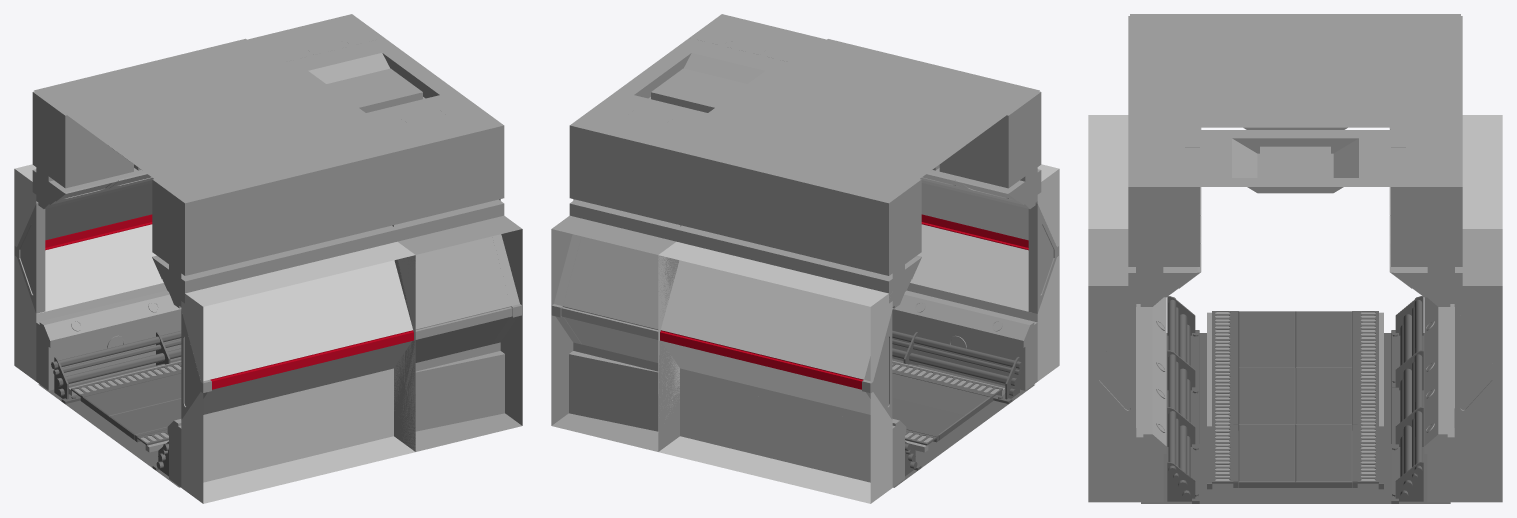
File: Coridoor_chunk_1_Half_MayaRemodel.fbx
3 renders of one model, left to right at view 1: azimuth 30°, elevation 25°; view 2: azimuth 150°, elevation 25°; view 3: azimuth 270°, elevation 25°, orthographic. The views are drawn at different scales.
Visible parts, largest first — view 1: Coridoor_chunk_1_MayaRemodel1:polySurface74, polySurface70, Coridoor_chunk_1_MayaRemodel1:Roof, Coridoor_chunk_1_MayaRemodel1:polySurface52, Coridoor_chunk_1_MayaRemodel1:polySurface102, polySurface27, Coridoor_chunk_1_MayaRemodel1:polySurface114, Coridoor_chunk_1_MayaRemodel1:polySurface10, Coridoor_chunk_1_MayaRemodel1:polySurface51, polySurface72, Coridoor_chunk_1_MayaRemodel1:polySurface103, Coridoor_chunk_1_MayaRemodel1:polySurface116 (+9 smaller); view 2: Coridoor_chunk_1_MayaRemodel1:polySurface102, polySurface72, Coridoor_chunk_1_MayaRemodel1:Roof, Coridoor_chunk_1_MayaRemodel1:polySurface10, Coridoor_chunk_1_MayaRemodel1:polySurface74, polySurface27, Coridoor_chunk_1_MayaRemodel1:polySurface75, Coridoor_chunk_1_MayaRemodel1:polySurface52, polySurface70, Coridoor_chunk_1_MayaRemodel1:polySurface81, Coridoor_chunk_1_MayaRemodel1:polySurface4, Coridoor_chunk_1_MayaRemodel1:Floor (+9 smaller); view 3: Coridoor_chunk_1_MayaRemodel1:Roof, polySurface70, polySurface72, polySurface27, polySurface33, Coridoor_chunk_1_MayaRemodel1:polySurface74, Coridoor_chunk_1_MayaRemodel1:polySurface102, polySurface28, polySurface48, Coridoor_chunk_1_MayaRemodel1:polySurface49, Coridoor_chunk_1_MayaRemodel1:polySurface81, Coridoor_chunk_1_MayaRemodel1:polySurface88 (+28 smaller).
Part boxes in pixels (x1,y1,x2,y2): Coridoor_chunk_1_MayaRemodel1:polySurface74: (181, 241, 415, 503); polySurface70: (367, 101, 522, 451); Coridoor_chunk_1_MayaRemodel1:Roof: (34, 38, 395, 200); Coridoor_chunk_1_MayaRemodel1:polySurface52: (152, 149, 397, 275); Coridoor_chunk_1_MayaRemodel1:polySurface102: (14, 164, 167, 381); polySurface27: (280, 38, 471, 126); Coridoor_chunk_1_MayaRemodel1:polySurface114: (36, 290, 181, 390); Coridoor_chunk_1_MayaRemodel1:polySurface10: (32, 91, 153, 204); Coridoor_chunk_1_MayaRemodel1:polySurface51: (153, 225, 397, 303); polySurface72: (247, 14, 384, 63); Coridoor_chunk_1_MayaRemodel1:polySurface103: (83, 373, 181, 421); Coridoor_chunk_1_MayaRemodel1:polySurface116: (14, 203, 45, 313); Coridoor_chunk_1_MayaRemodel1:polySurface102: (658, 241, 892, 503); polySurface72: (551, 101, 706, 451); Coridoor_chunk_1_MayaRemodel1:Roof: (677, 39, 1039, 200); Coridoor_chunk_1_MayaRemodel1:polySurface10: (676, 149, 921, 303); Coridoor_chunk_1_MayaRemodel1:polySurface74: (906, 164, 1059, 381); polySurface27: (602, 38, 793, 126); Coridoor_chunk_1_MayaRemodel1:polySurface75: (892, 290, 1037, 390); Coridoor_chunk_1_MayaRemodel1:polySurface52: (932, 91, 1041, 188); polySurface70: (689, 14, 826, 63); Coridoor_chunk_1_MayaRemodel1:polySurface81: (892, 373, 990, 421); Coridoor_chunk_1_MayaRemodel1:polySurface4: (1028, 203, 1058, 313); Coridoor_chunk_1_MayaRemodel1:Floor: (892, 358, 1034, 487); Coridoor_chunk_1_MayaRemodel1:Roof: (1130, 14, 1460, 129); polySurface70: (1088, 130, 1199, 502); polySurface72: (1391, 130, 1502, 502); polySurface27: (1185, 130, 1405, 193); polySurface33: (1141, 446, 1450, 503); Coridoor_chunk_1_MayaRemodel1:polySurface74: (1088, 115, 1128, 228); Coridoor_chunk_1_MayaRemodel1:polySurface102: (1462, 115, 1502, 228); polySurface28: (1295, 425, 1352, 487); polySurface48: (1238, 425, 1295, 487); Coridoor_chunk_1_MayaRemodel1:polySurface49: (1238, 368, 1295, 426); Coridoor_chunk_1_MayaRemodel1:polySurface81: (1238, 311, 1295, 367); Coridoor_chunk_1_MayaRemodel1:polySurface88: (1295, 368, 1352, 424).
Size of the model in its own units: 828 by 720 by 849.
